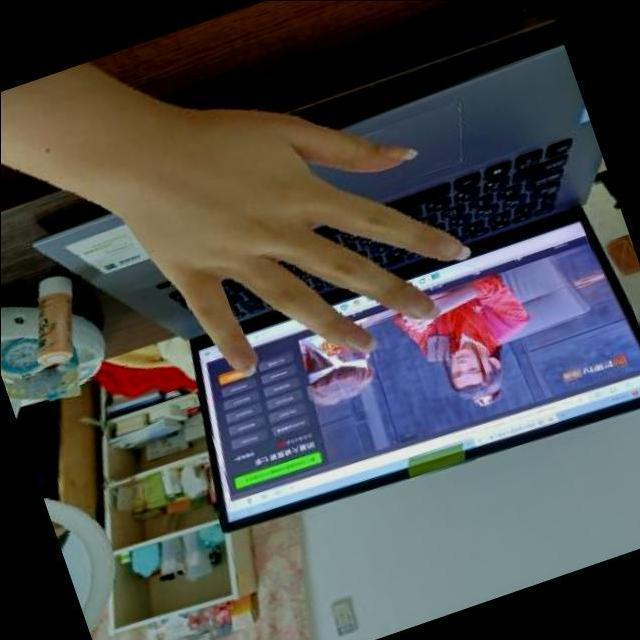hand: (42, 26, 512, 444)
